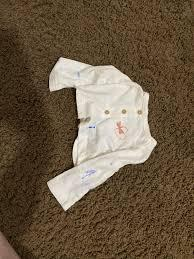ink: (83, 169, 95, 177), (88, 125, 94, 129), (77, 72, 80, 77)
